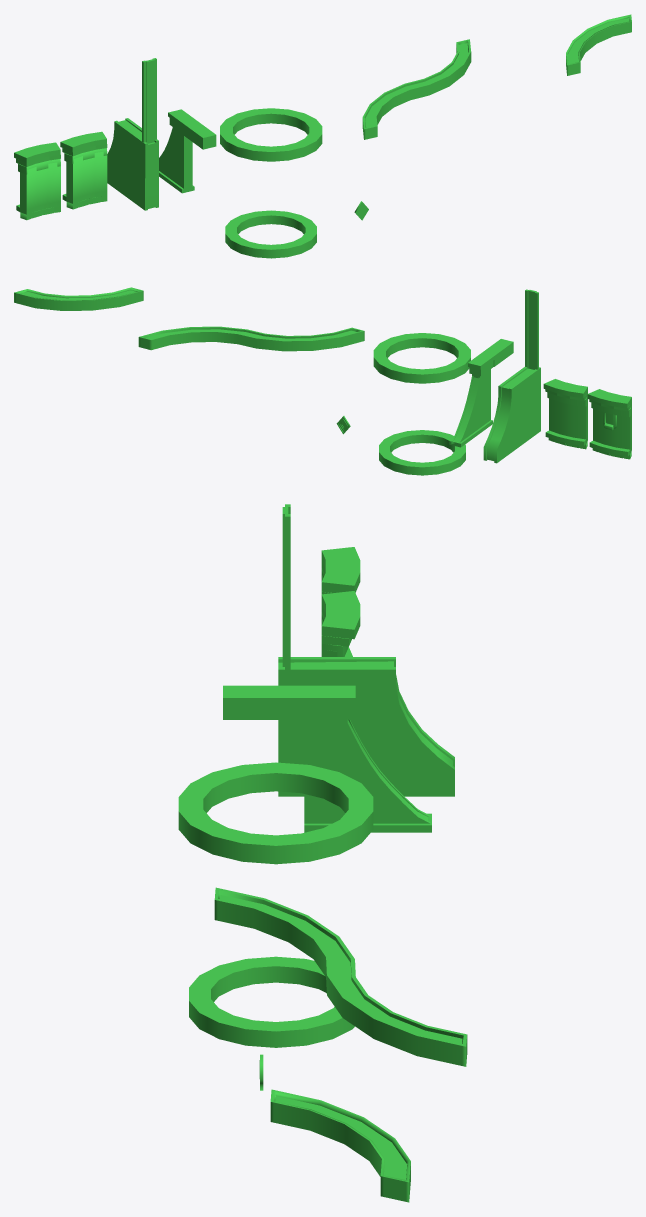
The model's file is uvgroup06_unity.fbx.
3 views of the same model, one above another, from view 1: azimuth 30°, elevation 25°; view 2: azimuth 150°, elevation 25°; view 3: azimuth 270°, elevation 25° (orthographic). The views are drawn at different scales.
Visible parts, largest first — view 1: Temple_Fountain_wall02_low, Temple_Fountain_deco04_low, Temple_Fountain_wall00_low, Temple_Fountain_wall01_low, Temple_Fountain_deco03_low, Temple_Fountain_wall03_low, Temple_Plantpot02_low, Temple_Plantpot01_low, Temple_Fountain_deco01_low; view 2: Temple_Plantpot02_low, Temple_Fountain_wall02_low, Temple_Fountain_deco04_low, Temple_Fountain_wall03_low, Temple_Fountain_wall01_low, Temple_Fountain_wall00_low, Temple_Fountain_deco03_low, Temple_Plantpot01_low, Temple_Fountain_deco01_low; view 3: Temple_Fountain_deco04_low, Temple_Fountain_wall02_low, Temple_Fountain_wall03_low, Temple_Plantpot02_low, Temple_Fountain_deco03_low, Temple_Plantpot01_low, Temple_Fountain_wall00_low, Temple_Fountain_wall01_low, Temple_Fountain_deco01_low.
Boxes of the visible parts, bbox=[...] form: Temple_Fountain_wall02_low: bbox=[107, 118, 158, 210]; Temple_Fountain_deco04_low: bbox=[220, 108, 322, 161]; Temple_Fountain_wall00_low: bbox=[60, 131, 107, 209]; Temple_Fountain_wall01_low: bbox=[14, 142, 60, 220]; Temple_Fountain_deco03_low: bbox=[225, 210, 316, 258]; Temple_Fountain_wall03_low: bbox=[159, 109, 216, 193]; Temple_Plantpot02_low: bbox=[362, 39, 471, 139]; Temple_Plantpot01_low: bbox=[566, 14, 631, 75]; Temple_Fountain_deco01_low: bbox=[142, 58, 156, 143]; Temple_Plantpot02_low: bbox=[138, 326, 364, 351]; Temple_Fountain_wall02_low: bbox=[483, 367, 540, 463]; Temple_Fountain_deco04_low: bbox=[373, 333, 470, 383]; Temple_Fountain_wall03_low: bbox=[449, 339, 513, 447]; Temple_Fountain_wall01_low: bbox=[587, 389, 631, 459]; Temple_Fountain_wall00_low: bbox=[543, 379, 587, 449]; Temple_Fountain_deco03_low: bbox=[379, 430, 465, 475]; Temple_Plantpot01_low: bbox=[14, 287, 143, 310]; Temple_Fountain_deco01_low: bbox=[525, 289, 538, 369]; Temple_Fountain_deco04_low: bbox=[178, 762, 373, 864]; Temple_Fountain_wall02_low: bbox=[278, 657, 454, 796]; Temple_Fountain_wall03_low: bbox=[223, 685, 431, 832]; Temple_Plantpot02_low: bbox=[214, 887, 467, 1066]; Temple_Fountain_deco03_low: bbox=[189, 956, 354, 1047]; Temple_Plantpot01_low: bbox=[270, 1089, 410, 1202]; Temple_Fountain_wall00_low: bbox=[321, 591, 360, 656]; Temple_Fountain_wall01_low: bbox=[321, 547, 360, 656]; Temple_Fountain_deco01_low: bbox=[282, 504, 290, 669].
Bounding box in the file's own units: 35258 × 10956 × 7341.
